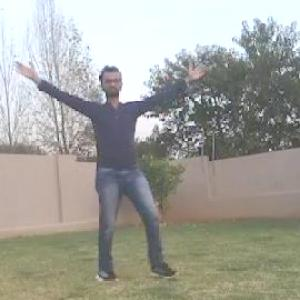takeoff: (1, 75, 178, 284)
